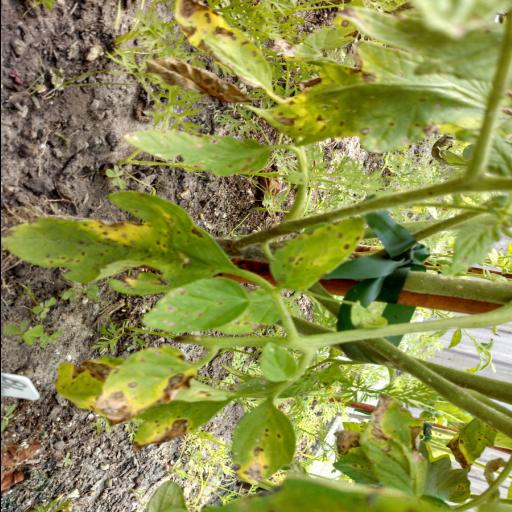Septoria: (241, 41, 512, 157), (0, 188, 236, 304), (170, 0, 278, 92), (120, 126, 296, 178), (92, 344, 200, 424), (261, 216, 367, 294), (360, 394, 432, 500), (137, 274, 250, 334), (127, 397, 237, 451), (228, 404, 298, 488)
